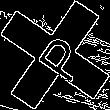P_NW: (24, 25, 86, 85)
